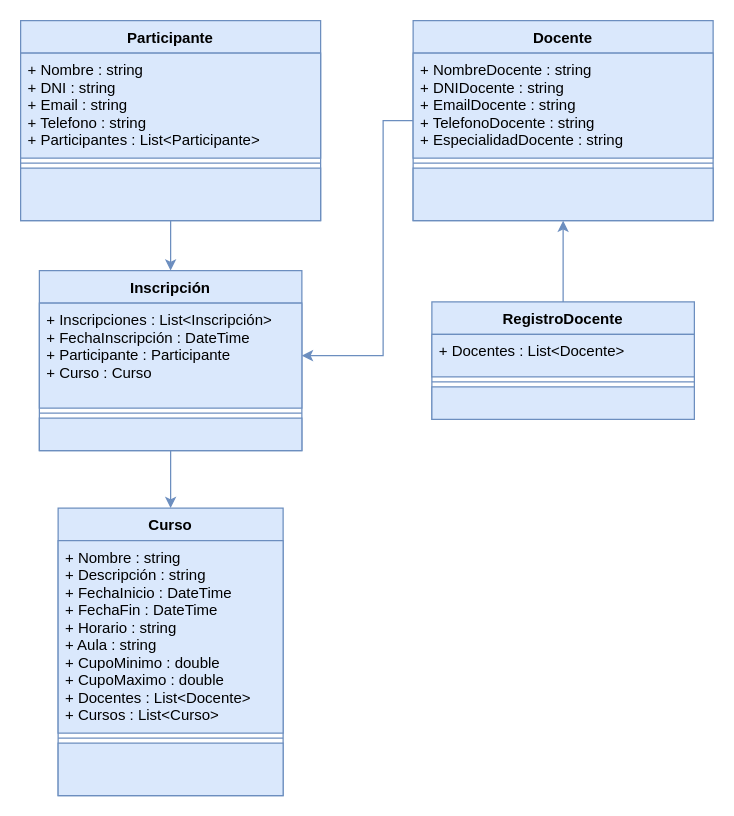
Some shapes in this 734 by 816 pixel diagram are drawn without their labels. Here are the shapes that lost their labels. From the top down, the centre of each, then its label:
At [170,194]: "+ RegistroNuevoParticipante () + MuestreoParticipantes ()".
At [562,194]: "+ RegistroNuevoDocente () + MuestreoDocentes ()".
At [562,402]: "+ MuestreoDocentes ()".
At [170,434]: "+ MuestreoInscripciones ()".
At [170,769]: "+ RegistroNuevoCurso () + MuestreoCursos ()".
